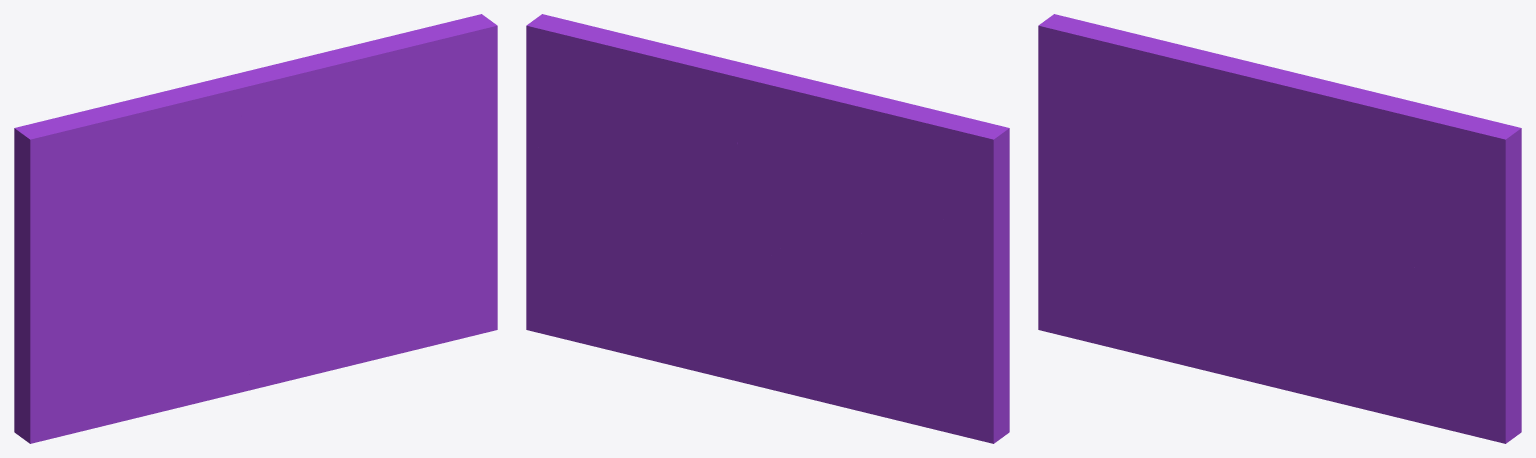
The model's file is Barrier_121_chunks.fbx.
The picture shows the model from 3 angles, left to right: view 1: azimuth 30°, elevation 25°; view 2: azimuth 150°, elevation 25°; view 3: azimuth 330°, elevation 25°; orthographic projection.
Visible parts, largest first — view 1: Barrier_121_2, Barrier_121_3, Barrier_121_1, Barrier_121_0; view 2: Barrier_121_2, Barrier_121_1, Barrier_121_0, Barrier_121_3; view 3: Barrier_121_2, Barrier_121_3, Barrier_121_1, Barrier_121_0.
Boxes of the visible parts, x1,y1,x2,y2 form: Barrier_121_2: (14,176,270,443); Barrier_121_3: (241,14,497,244); Barrier_121_1: (247,167,497,390); Barrier_121_0: (14,65,269,213); Barrier_121_2: (770,165,1009,443); Barrier_121_1: (526,143,793,394); Barrier_121_0: (737,76,1009,249); Barrier_121_3: (526,14,797,215); Barrier_121_2: (1038,63,1278,382); Barrier_121_3: (1249,76,1521,280); Barrier_121_1: (1255,246,1521,443); Barrier_121_0: (1038,14,1309,202).
Size of the model in its own units: 462 by 288 by 27.2.
